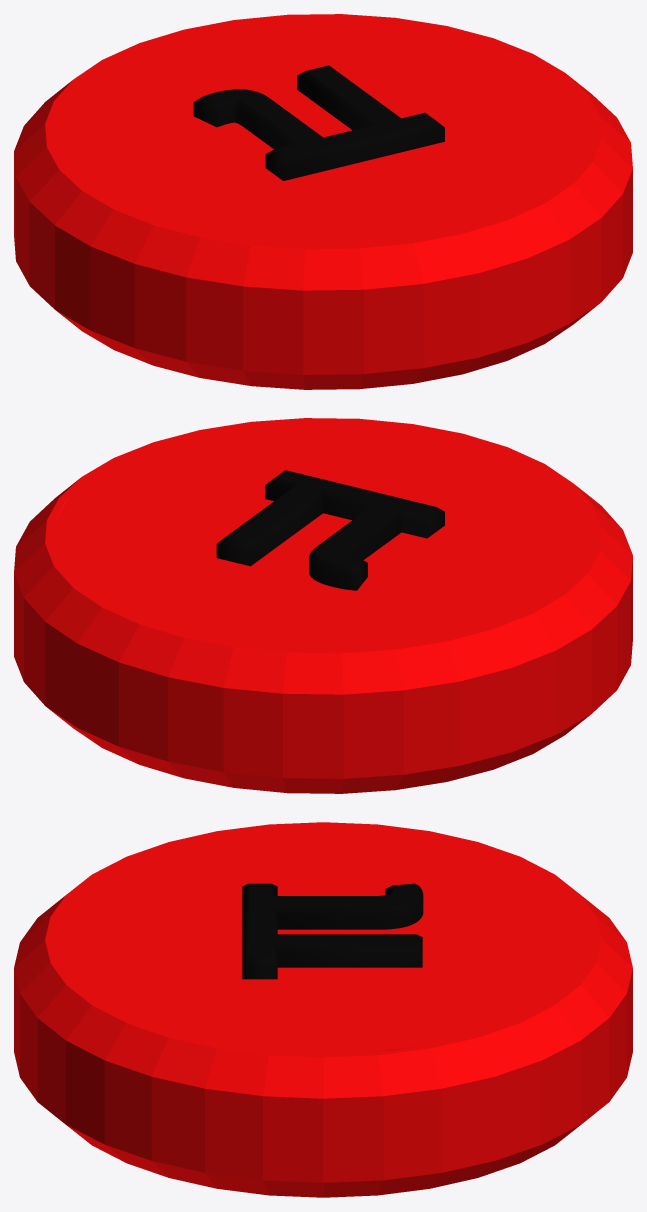
The picture shows the model from 3 angles, top to bottom: view 1: azimuth 30°, elevation 25°; view 2: azimuth 150°, elevation 25°; view 3: azimuth 270°, elevation 25°; orthographic projection.
Parts seen in each view (by area): view 1: Ficha, Letra; view 2: Ficha, Letra; view 3: Ficha, Letra.
Boxes of the visible parts, x1,y1,x2,y2 form: Ficha: [14, 14, 632, 389]; Letra: [193, 65, 444, 180]; Ficha: [14, 418, 632, 793]; Letra: [216, 470, 444, 590]; Ficha: [14, 822, 632, 1197]; Letra: [242, 883, 423, 979].
Size of the model in its own units: 80 by 22.8 by 80.
